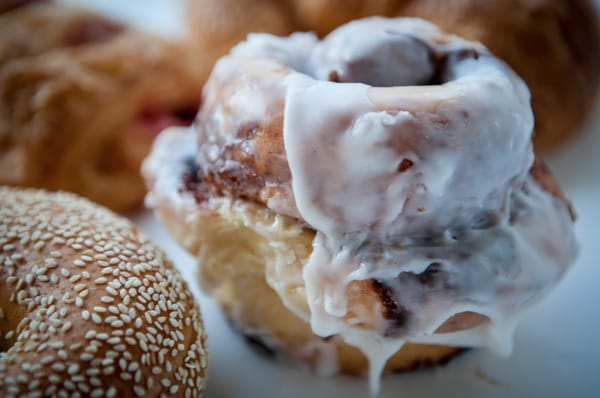salad: (142, 14, 589, 382), (0, 1, 297, 213), (0, 185, 209, 392), (0, 7, 207, 211)
